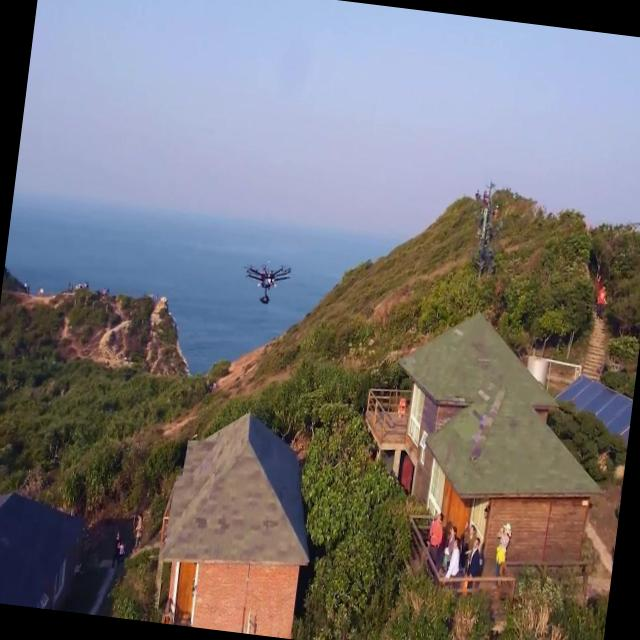drone: (238, 253, 293, 309)
